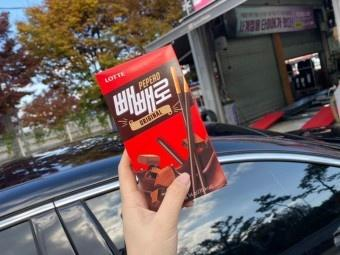snack: (95, 43, 228, 211)
